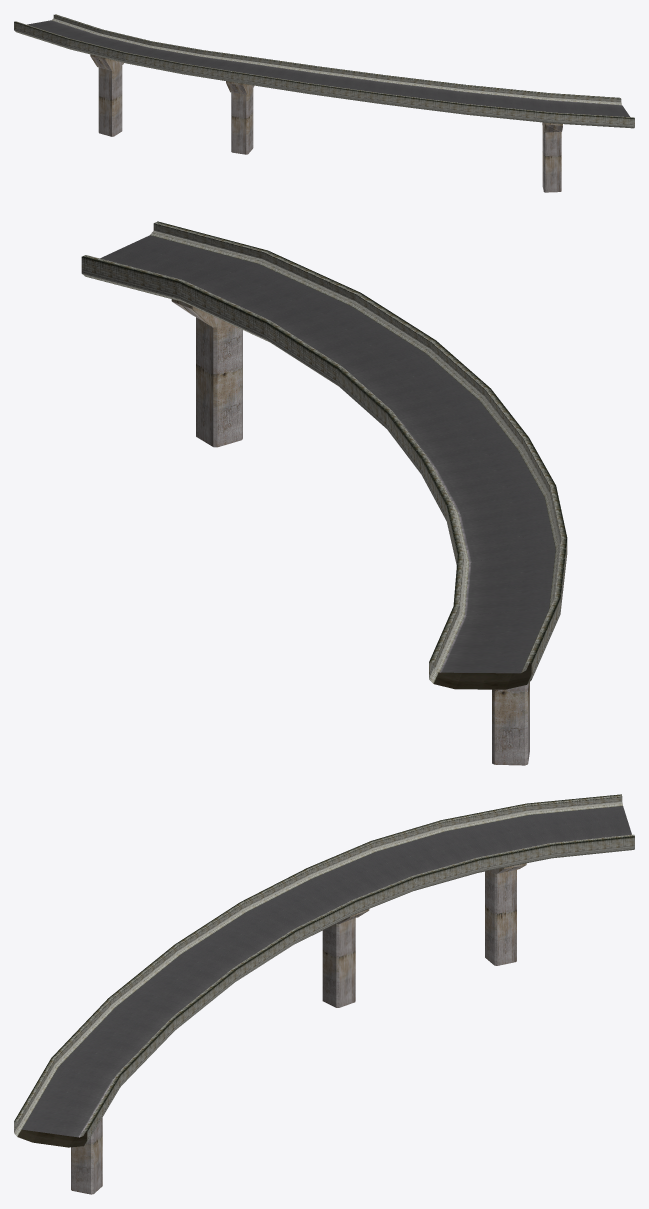
The model's file is roadssfse79.obj.
3 renders of one model, top to bottom at view 1: azimuth 30°, elevation 25°; view 2: azimuth 150°, elevation 25°; view 3: azimuth 270°, elevation 25°, orthographic. The views are drawn at different scales.
Visible parts, largest first — view 1: roadsSFSE79; view 2: roadsSFSE79; view 3: roadsSFSE79.
Part boxes in pixels (x1,y1,x2,y2): roadsSFSE79: [14, 14, 634, 192]; roadsSFSE79: [81, 221, 567, 765]; roadsSFSE79: [14, 794, 634, 1194].
Bounding box in the file's own units: 97.92 × 26.12 × 90.45.
Materials: 4 (4 with a texture image).
